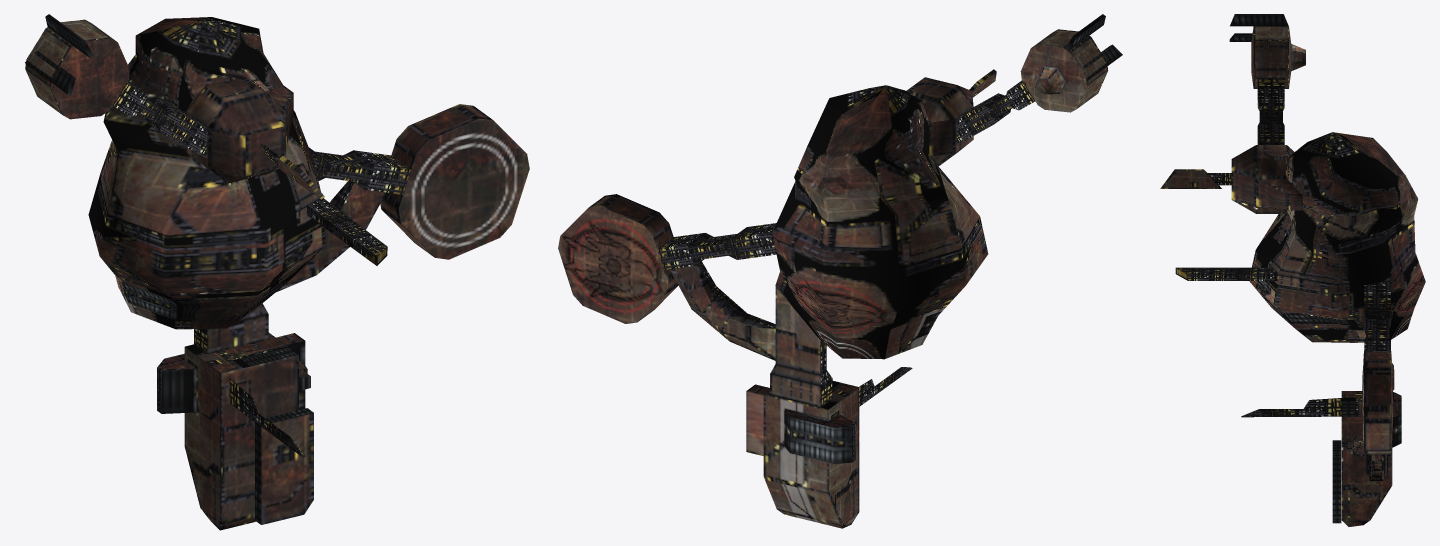
3 renders of one model, left to right at view 1: azimuth 30°, elevation 25°; view 2: azimuth 150°, elevation 25°; view 3: azimuth 270°, elevation 25°, orthographic. The views are drawn at different scales.
Visible parts, largest first — view 1: frm-rock, frm-cyl2, frm-cube18, frm-cube22, frm-cyl2_1, frm-cube21, frm-cube4, frm-cube4_1, frm-cube20, frm-cube13, frm-cube3, frm-cube19 (+4 smaller); view 2: frm-rock, frm-cyl2, frm-cube18, frm-cyl2_1, frm-cube19, frm-cube20, frm-cube4, frm-cube22, frm-cube13, frm-cube4_1, frm-east_bay_11_9; view 3: frm-rock, frm-cube18, frm-cube22, frm-cyl2, frm-cyl2_1, frm-cube4_1, frm-cube4, frm-cube3, frm-extru44, frm-cube8, frm-cube21, frm-cube2 (+2 smaller).
Part boxes in pixels (box(x1,y1,x2,y2)): frm-rock: box(88, 17, 325, 329); frm-cyl2: box(380, 104, 529, 259); frm-cube18: box(184, 332, 298, 530); frm-cube22: box(186, 77, 293, 183); frm-cyl2_1: box(25, 19, 129, 119); frm-cube21: box(255, 408, 313, 524); frm-cube4: box(309, 147, 410, 194); frm-cube4_1: box(112, 80, 207, 158); frm-cube20: box(276, 181, 385, 292); frm-cube13: box(157, 353, 196, 413); frm-cube3: box(307, 198, 387, 265); frm-cube19: box(194, 303, 268, 354); frm-rock: box(772, 85, 988, 359); frm-cyl2: box(558, 194, 678, 323); frm-cube18: box(763, 381, 859, 528); frm-cyl2_1: box(1020, 29, 1108, 112); frm-cube19: box(770, 286, 832, 407); frm-cube20: box(670, 261, 775, 360); frm-cube4: box(657, 223, 776, 269); frm-cube22: box(906, 77, 973, 166); frm-cube13: box(784, 410, 855, 463); frm-cube4_1: box(956, 80, 1035, 145); frm-east_bay_11_9: box(746, 384, 769, 455); frm-rock: box(1249, 132, 1425, 342); frm-cube18: box(1341, 391, 1392, 526); frm-cube22: box(1231, 145, 1302, 213); frm-cyl2: box(1362, 351, 1392, 454); frm-cyl2_1: box(1251, 26, 1305, 88); frm-cube4_1: box(1257, 78, 1284, 144); frm-cube4: box(1364, 280, 1390, 350); frm-cube3: box(1175, 267, 1278, 280); frm-extru44: box(1241, 398, 1341, 417); frm-cube8: box(1160, 169, 1221, 188); frm-cube21: box(1332, 440, 1341, 523); frm-cube2: box(1230, 14, 1288, 26).
Size of the model in its own units: 120 by 121 by 69.96.
